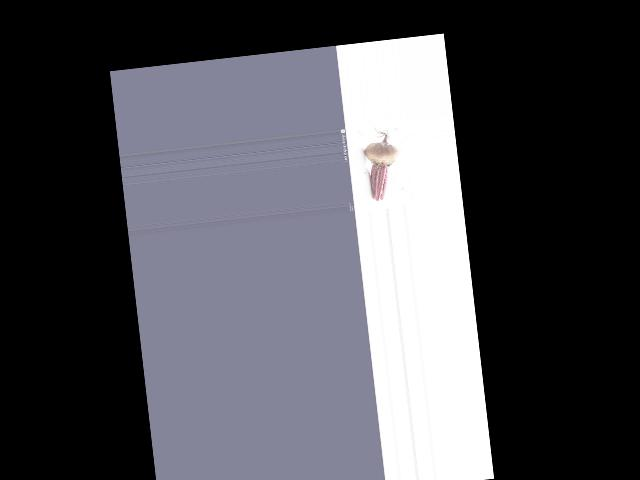beet: (362, 125, 403, 201)
